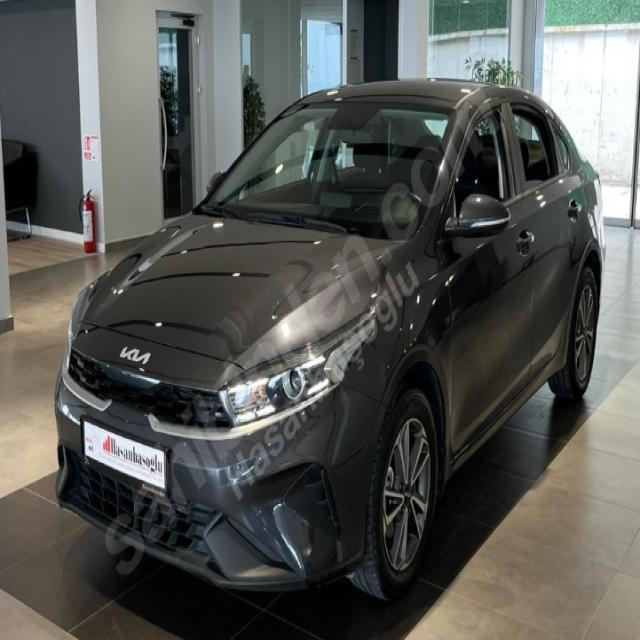kia: (118, 340, 153, 370)
